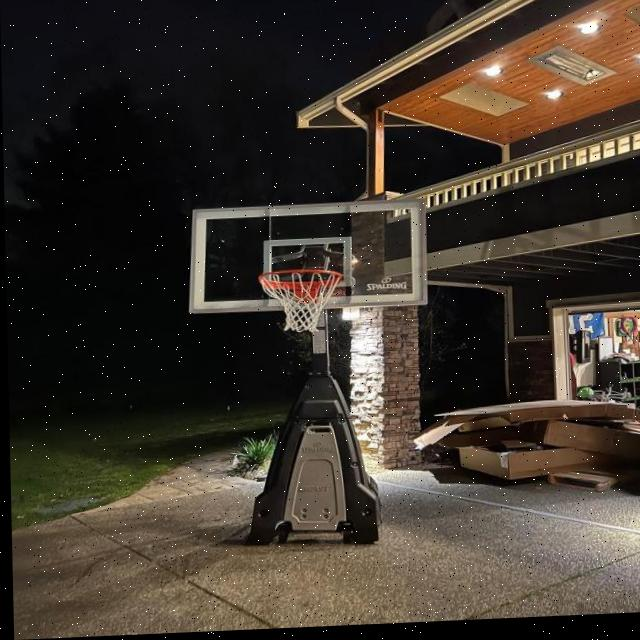Basketball: (292, 285, 319, 306), (579, 387, 594, 399)
hoop: (258, 269, 343, 335)
